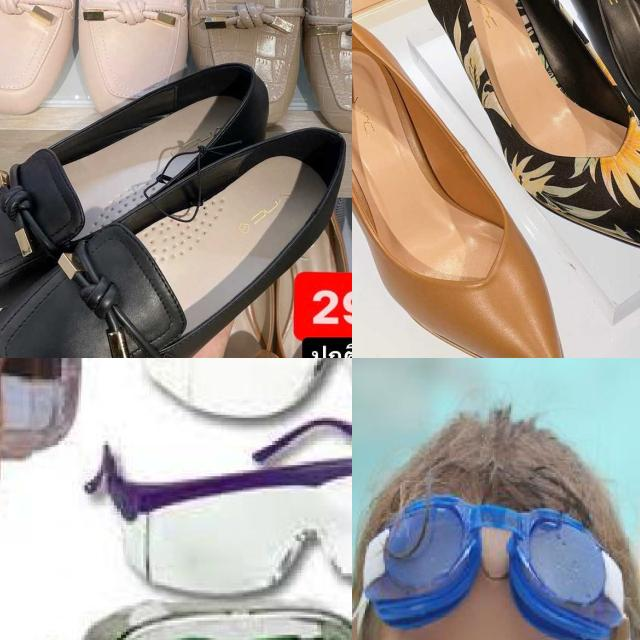Sandals: (0, 35, 352, 358), (352, 0, 577, 358), (404, 0, 640, 302), (0, 0, 199, 110), (190, 0, 352, 127)
glasses: (355, 490, 638, 640)
head_nohelmet: (352, 389, 640, 640)
